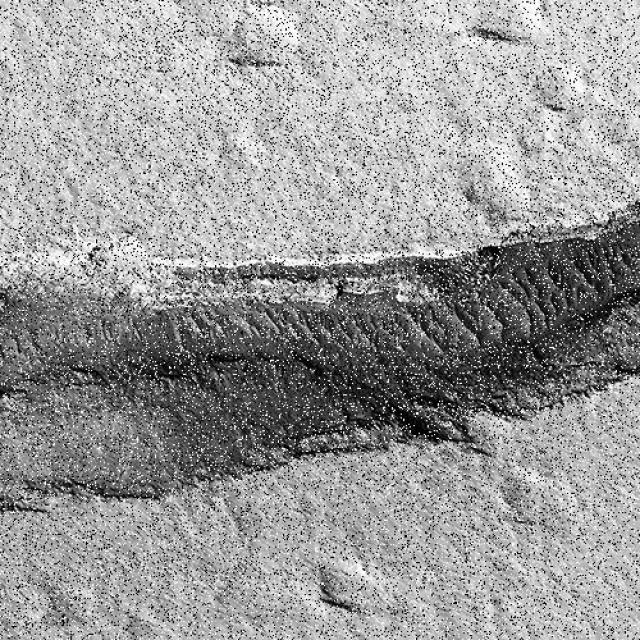crater: (0, 14, 94, 213), (442, 127, 546, 239), (212, 0, 313, 88), (489, 454, 590, 538), (310, 545, 398, 639), (35, 558, 126, 636), (457, 0, 573, 59), (138, 0, 225, 14)
